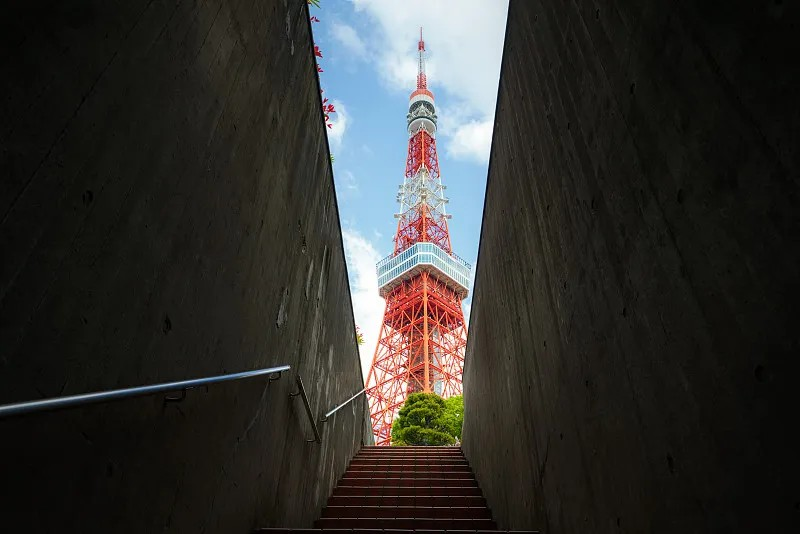Tokyo: (365, 17, 469, 447)
